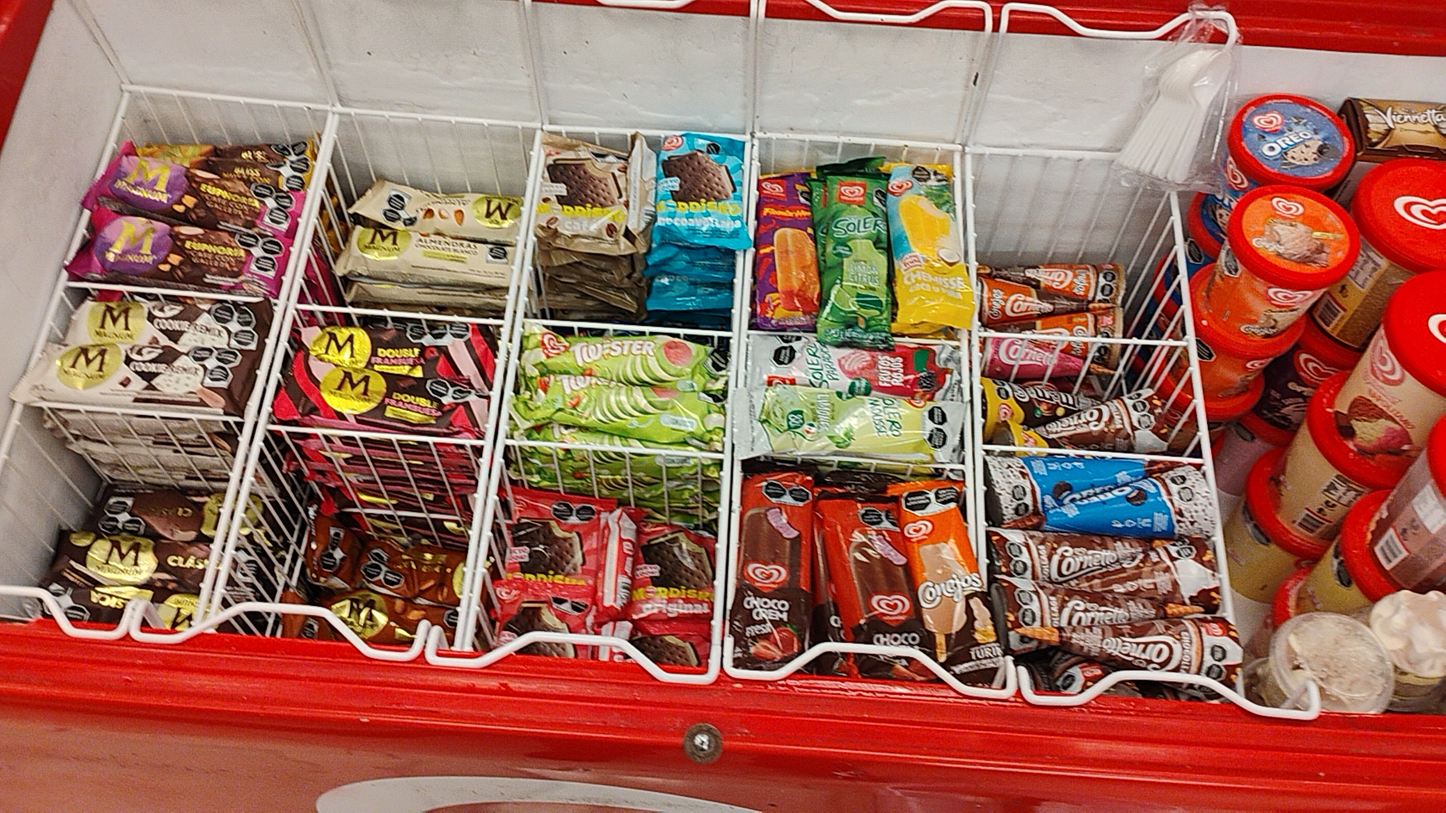rejilla: (195, 114, 333, 624), (209, 115, 340, 617), (456, 133, 541, 648), (465, 237, 535, 650), (1172, 194, 1216, 495), (710, 400, 731, 668), (126, 86, 329, 109), (294, 305, 506, 324), (264, 425, 486, 443), (504, 440, 724, 458), (336, 108, 538, 126), (982, 446, 1204, 462), (33, 404, 241, 421), (756, 131, 958, 148), (62, 283, 260, 300), (529, 320, 732, 336), (30, 276, 66, 366), (973, 316, 985, 583), (725, 477, 741, 665), (97, 92, 128, 177), (979, 333, 1187, 345), (729, 253, 743, 399), (739, 249, 752, 388), (1217, 523, 1233, 623), (968, 149, 1116, 158), (965, 407, 974, 553), (530, 150, 544, 235), (545, 126, 681, 134), (2, 404, 20, 462), (968, 156, 975, 281), (69, 213, 89, 255), (750, 140, 758, 238), (810, 457, 900, 464), (956, 153, 962, 246), (744, 142, 750, 221), (961, 333, 968, 400), (894, 338, 959, 344), (748, 331, 800, 334), (714, 135, 747, 139), (924, 465, 965, 468), (808, 334, 816, 336)
